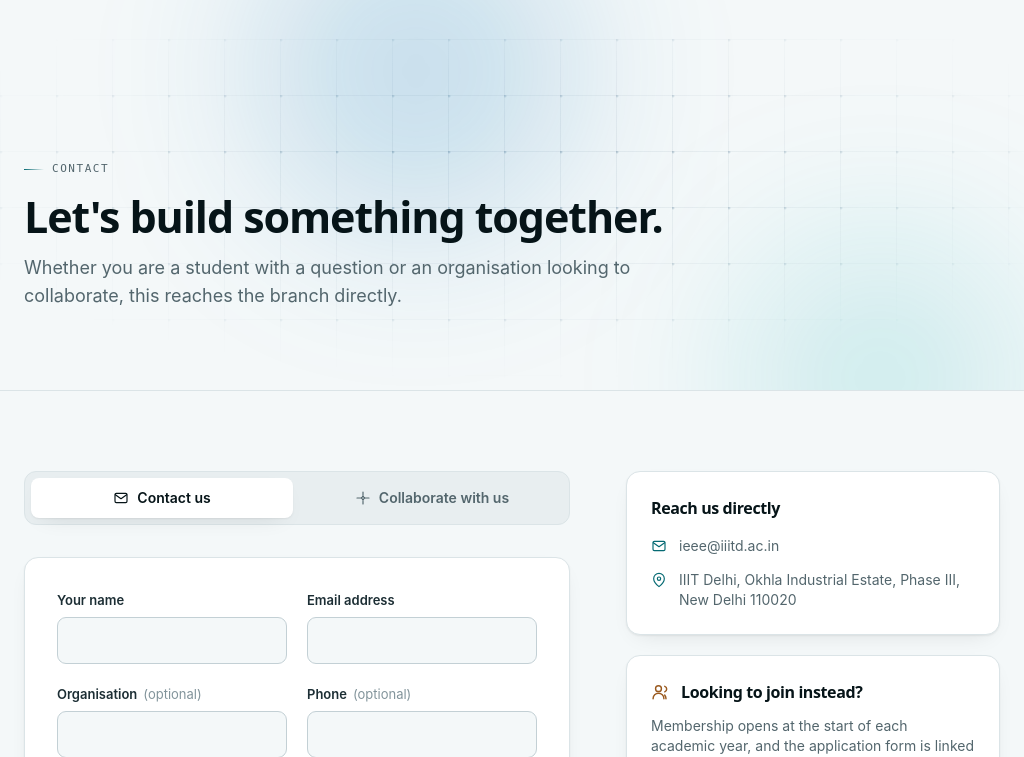
Test: ContactPage › confirms once the message is sent
Type "Priya Sharma" into the field labelled "Your name" at (172, 640), box [57,617,287,664]
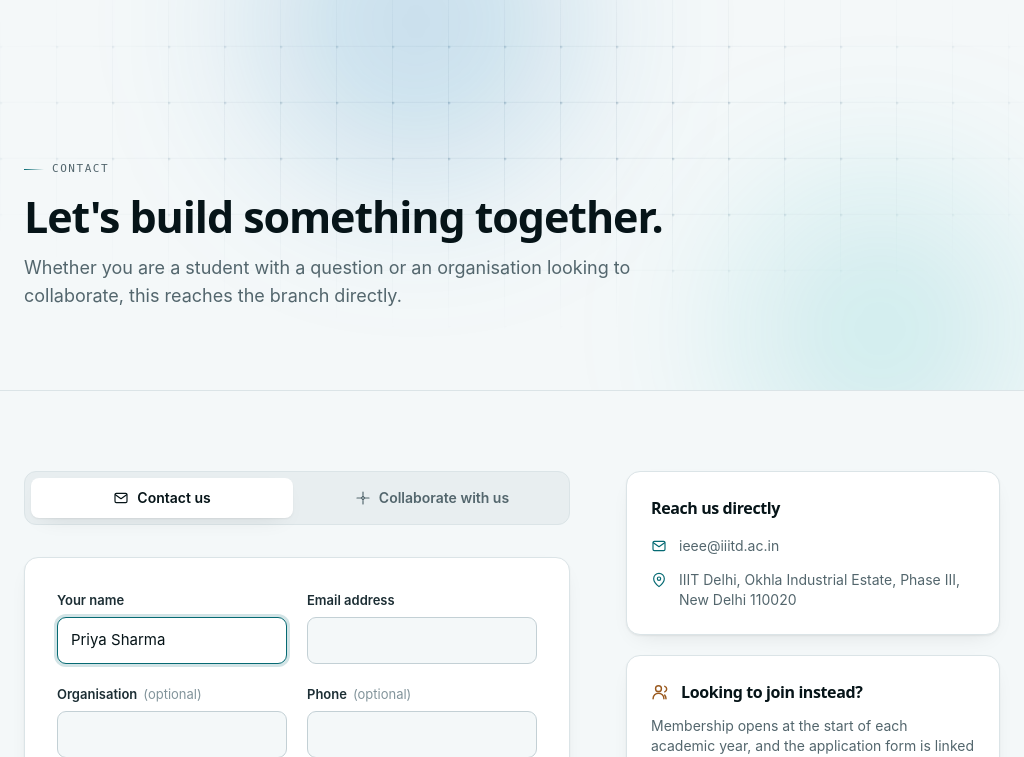
Type "priya@example.com" into the field labelled "Email address" at (422, 640), box [307,617,537,664]
(page scrolled)
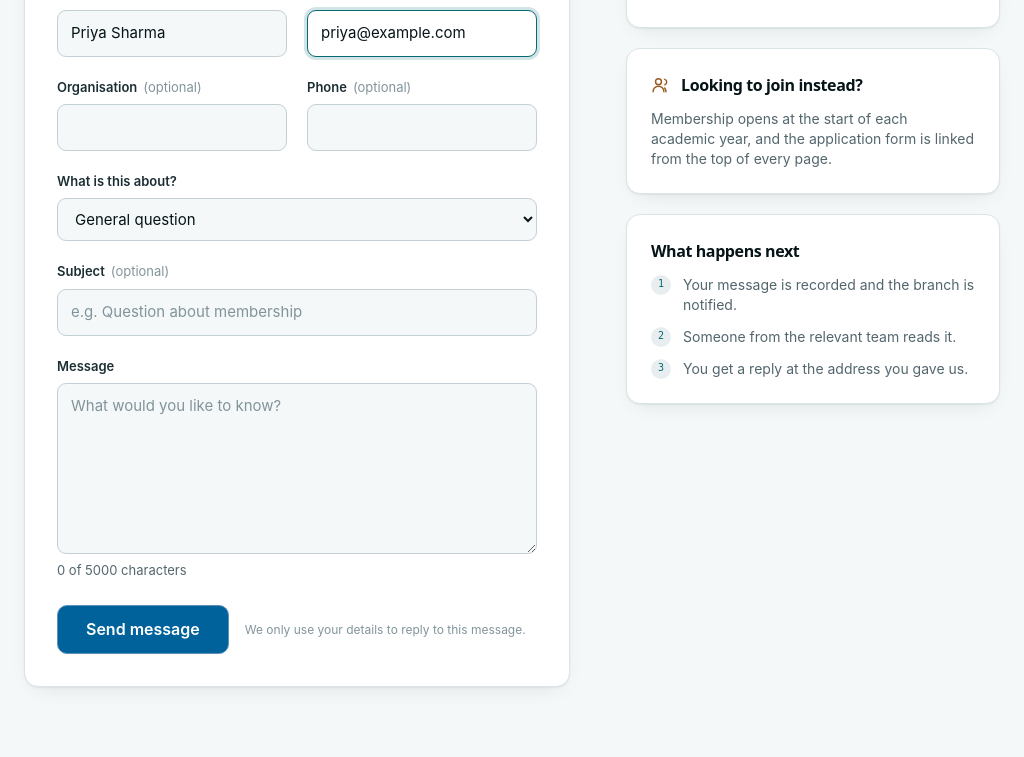
Type "We would like to run a workshop with your branch next semester." into the text box labelled "Message" at (297, 468), box [57,383,537,554]
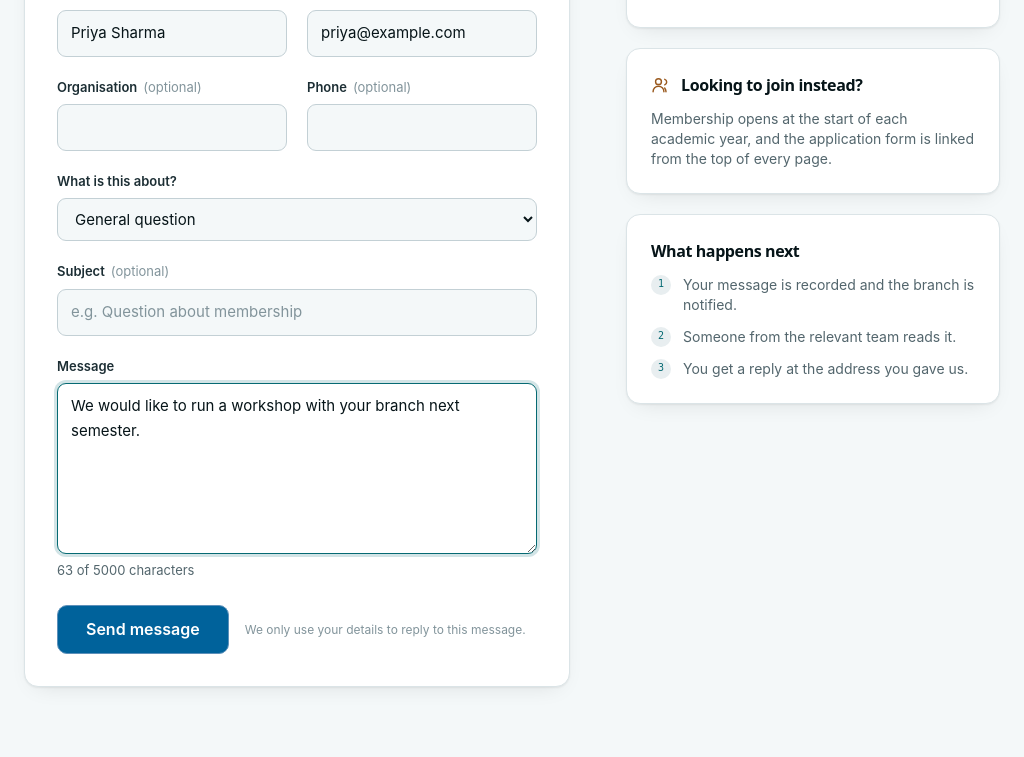
Click the button "Send message" at (143, 630), box [57,605,229,654]
(page scrolled)
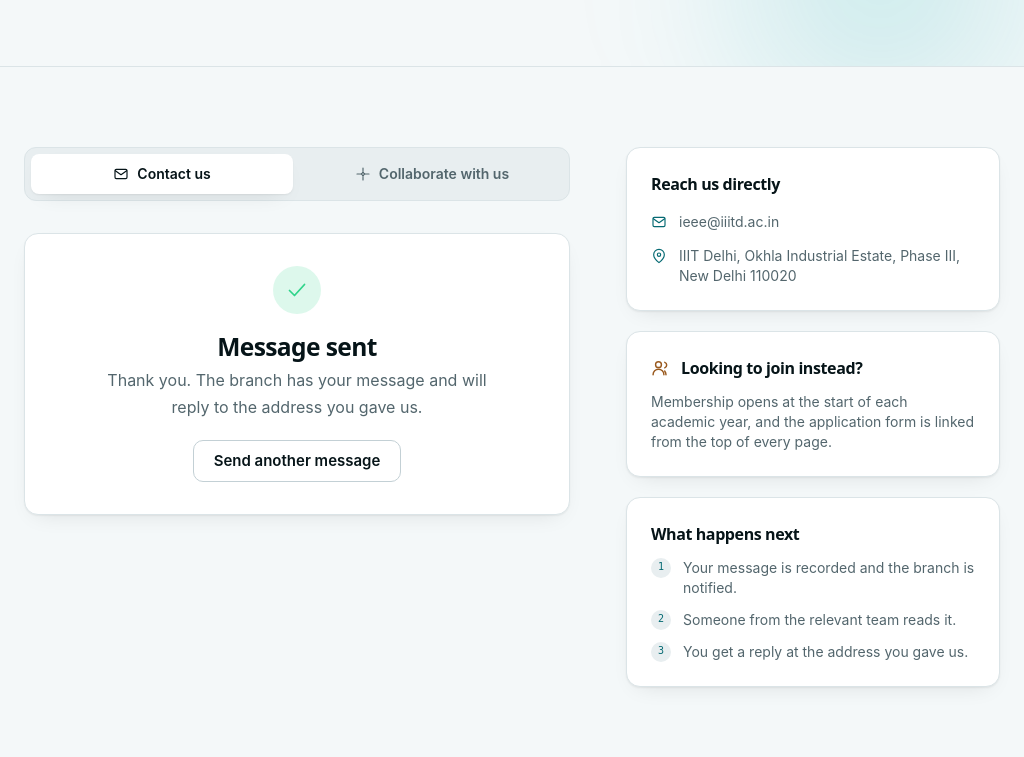
Check: the heading "Message sent" is shown, box [217,330,377,363]
